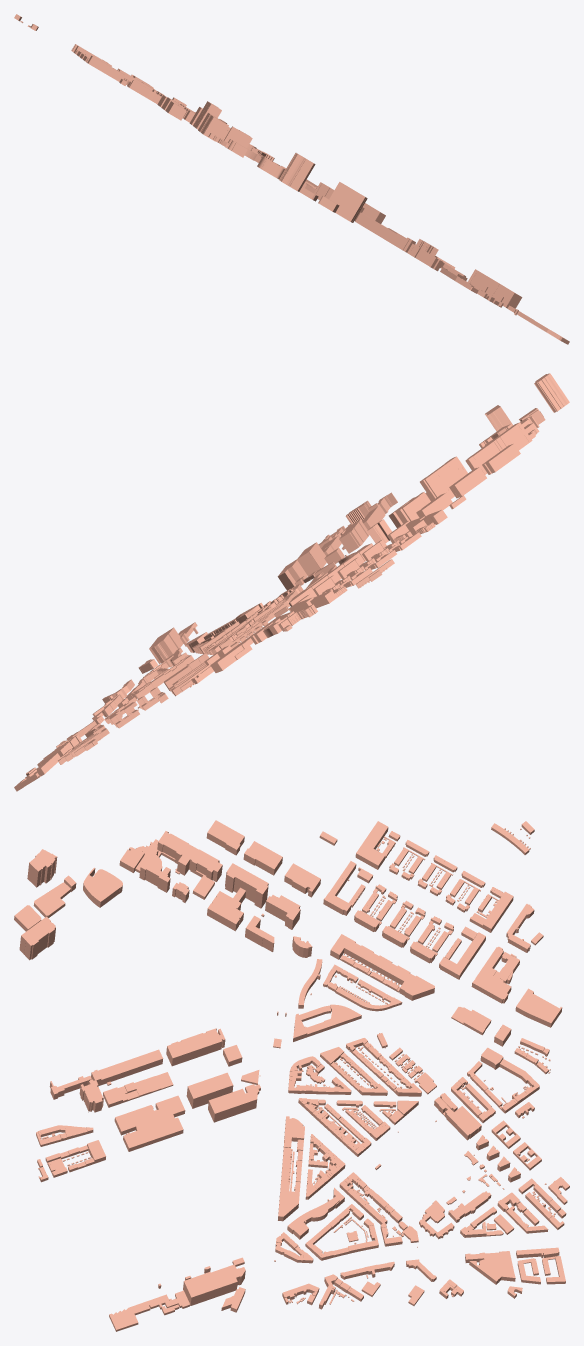
3 views of the same model, one above another, from view 1: azimuth 30°, elevation 25°; view 2: azimuth 150°, elevation 25°; view 3: azimuth 270°, elevation 25° (orthographic). The views are drawn at different scales.
Bounding box in the file's own units: 1084 × 821 × 1277.
